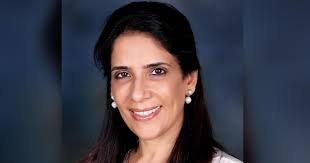noMask: (89, 3, 208, 140)
